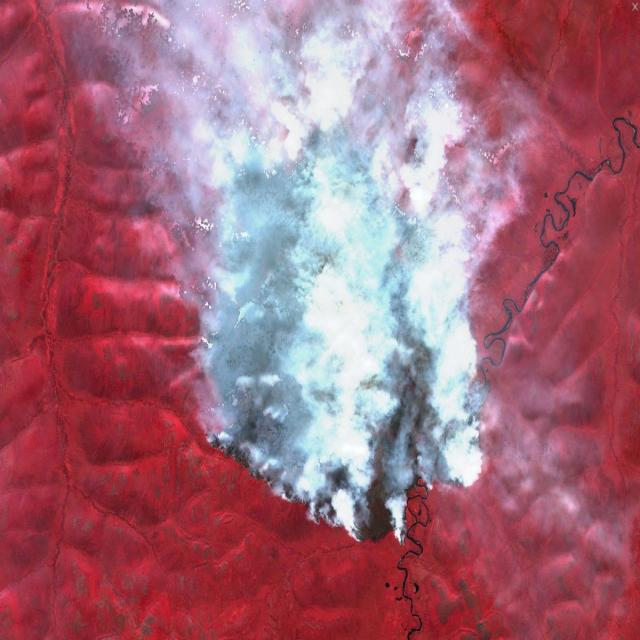fire: (192, 116, 488, 550)
